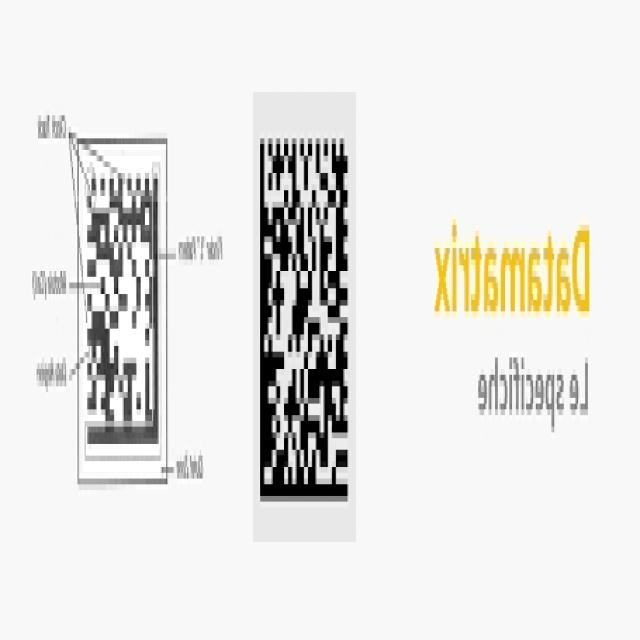Data-Matrix: (253, 92, 356, 542), (83, 156, 162, 472)
